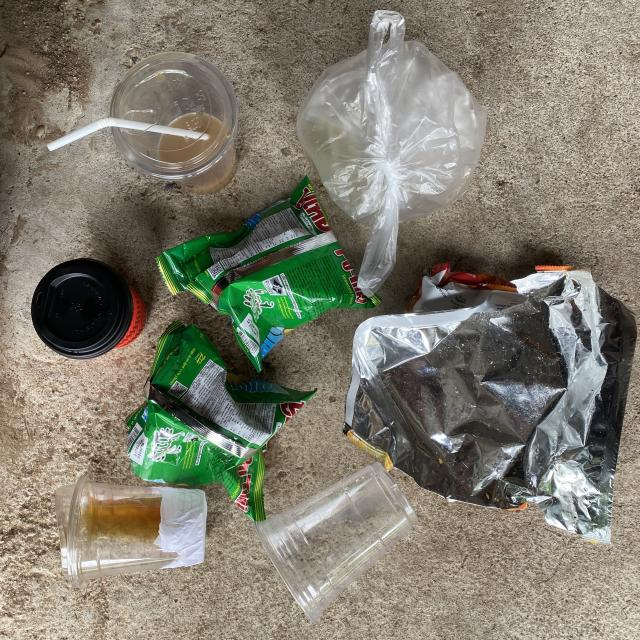Single-layer Plastic: (298, 10, 486, 296)
